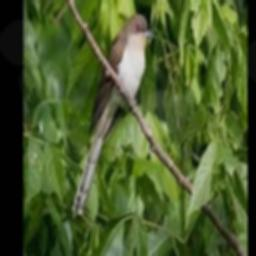Cuckoo: (70, 13, 152, 217)
